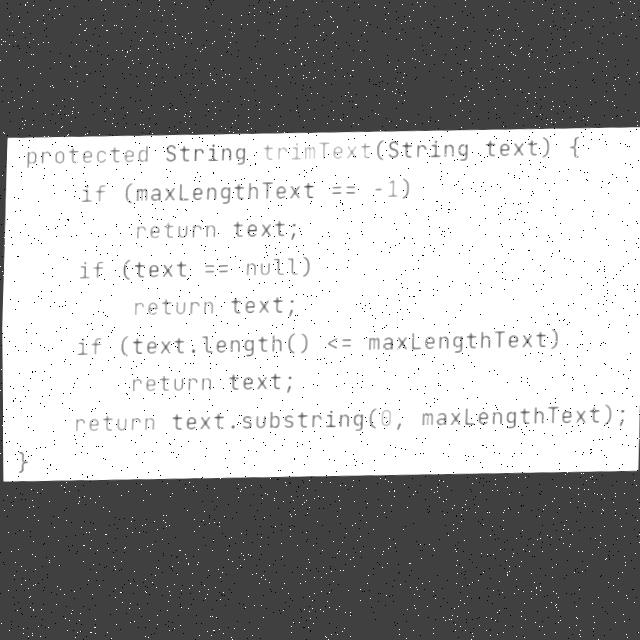code_screen: (2, 127, 640, 478)
